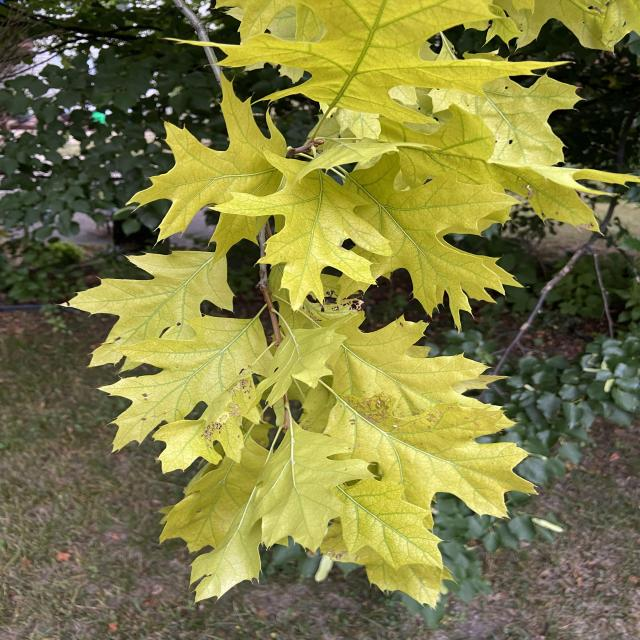Chlorosis: (80, 0, 640, 640)
